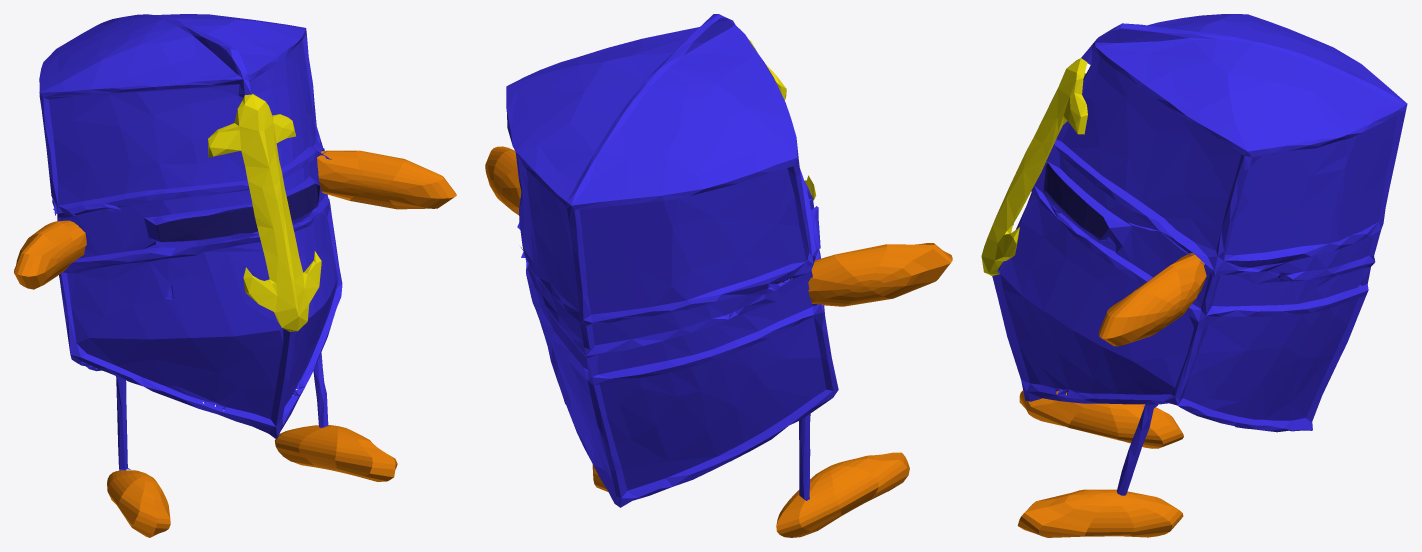
The model's file is MrTreb.fbx.
3 renders of one model, left to right at view 1: azimuth 30°, elevation 25°; view 2: azimuth 150°, elevation 25°; view 3: azimuth 270°, elevation 25°, orthographic. The views are drawn at different scales.
Parts seen in each view (by area): view 1: white_mesh, white_mesh.001, Sphere.004, Sphere.002, Sphere.003, white_mesh.002, Sphere.001; view 2: white_mesh, Sphere.003, Sphere.001, Sphere.004; view 3: white_mesh, Sphere.002, Sphere.004, white_mesh.001, Sphere.001, white_mesh.002, white_mesh.003.
Boxes of the visible parts, x1,y1,x2,y2 form: white_mesh: (39, 14, 342, 470); white_mesh.001: (208, 94, 321, 330); Sphere.004: (317, 150, 456, 209); Sphere.002: (275, 425, 397, 481); Sphere.003: (14, 220, 86, 289); white_mesh.002: (156, 183, 319, 241); Sphere.001: (107, 470, 170, 537); white_mesh: (506, 14, 838, 507); Sphere.003: (779, 243, 952, 306); Sphere.001: (776, 452, 909, 537); Sphere.004: (485, 146, 521, 215); white_mesh: (992, 14, 1407, 495); Sphere.002: (1017, 489, 1183, 537); Sphere.004: (1098, 253, 1206, 346); white_mesh.001: (981, 58, 1086, 273); Sphere.001: (1019, 390, 1183, 448); white_mesh.002: (1043, 161, 1108, 240); white_mesh.003: (984, 58, 1087, 275).
Size of the model in its own units: 200 by 196 by 162.
